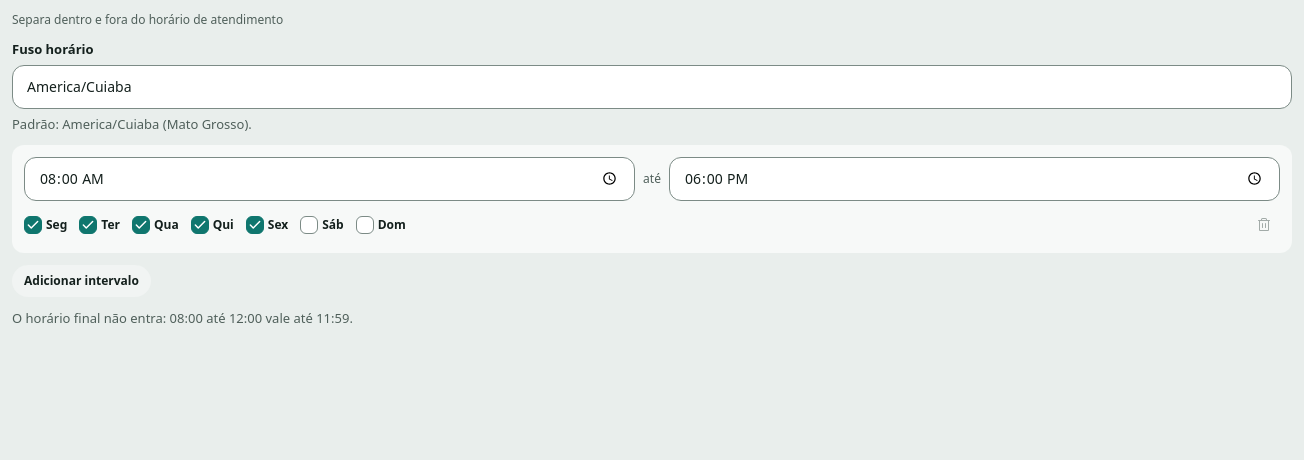
Test: BlockConfigCard › hours: edits times, toggles days and adds or removes intervals
Replace the text in the time field named "Intervalo 1: fim" with "12:00": (974, 179) left=669, top=157, right=1280, bottom=201
Click the button "Adicionar intervalo": click(82, 281) left=12, top=265, right=151, bottom=297
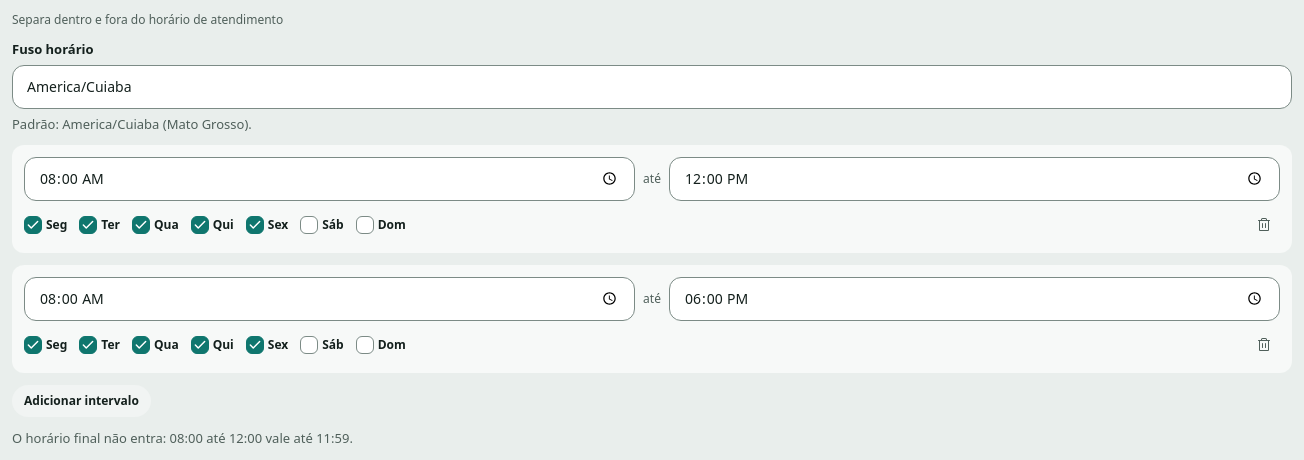
Replace the text in the time field named "Intervalo 2: início" with "14:00": (330, 299) left=24, top=277, right=635, bottom=321
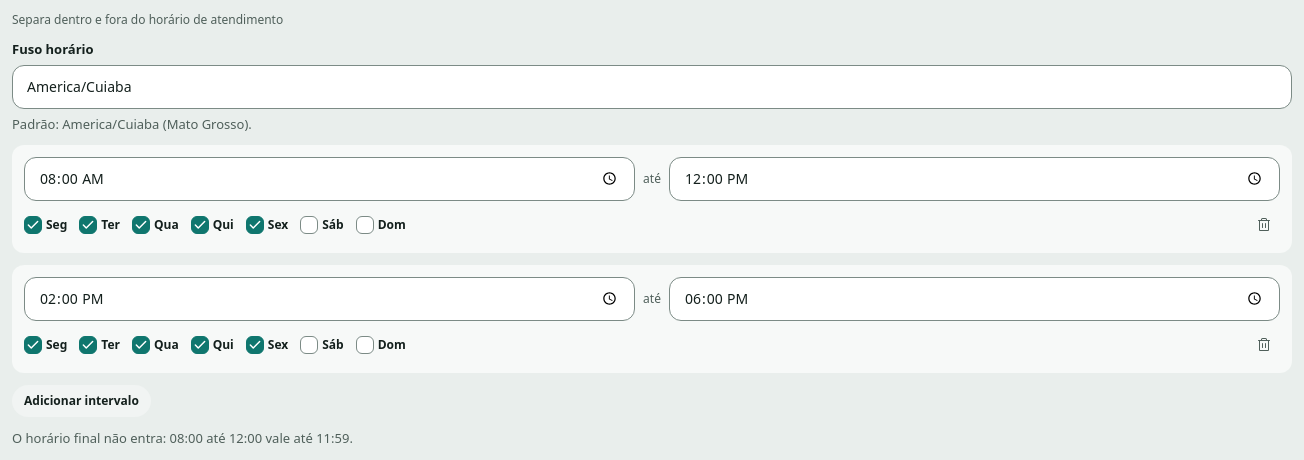
Click the checkbox named "Intervalo 2: Sexta": click(255, 345) left=246, top=336, right=264, bottom=354
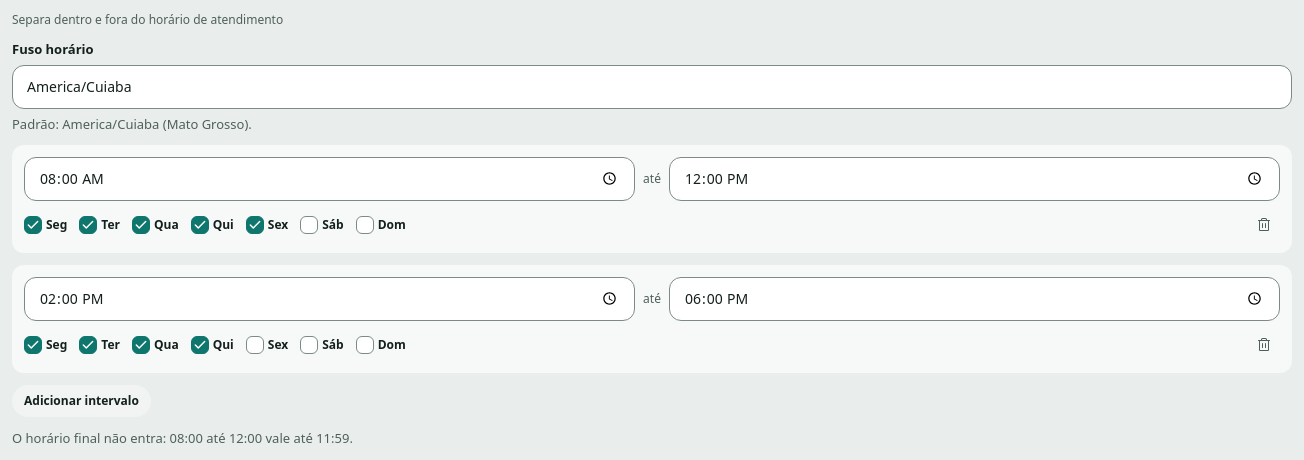
// checking the weekend too means every day, so `days` is dropped
Click the checkbox named "Intervalo 1: Sábado": click(309, 225) left=300, top=216, right=318, bottom=234
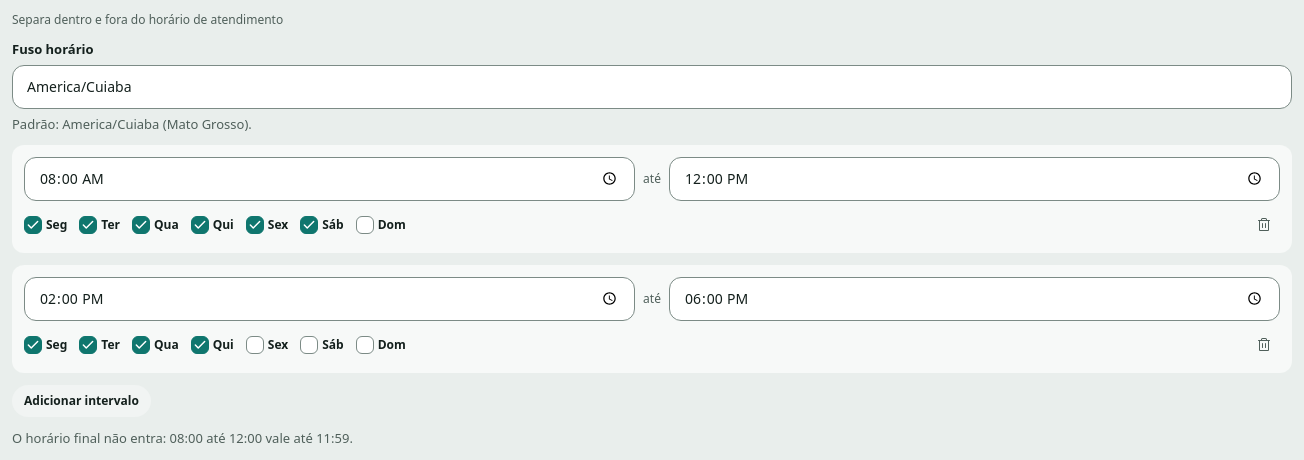
Click the checkbox named "Intervalo 1: Domingo": click(365, 225) left=356, top=216, right=374, bottom=234
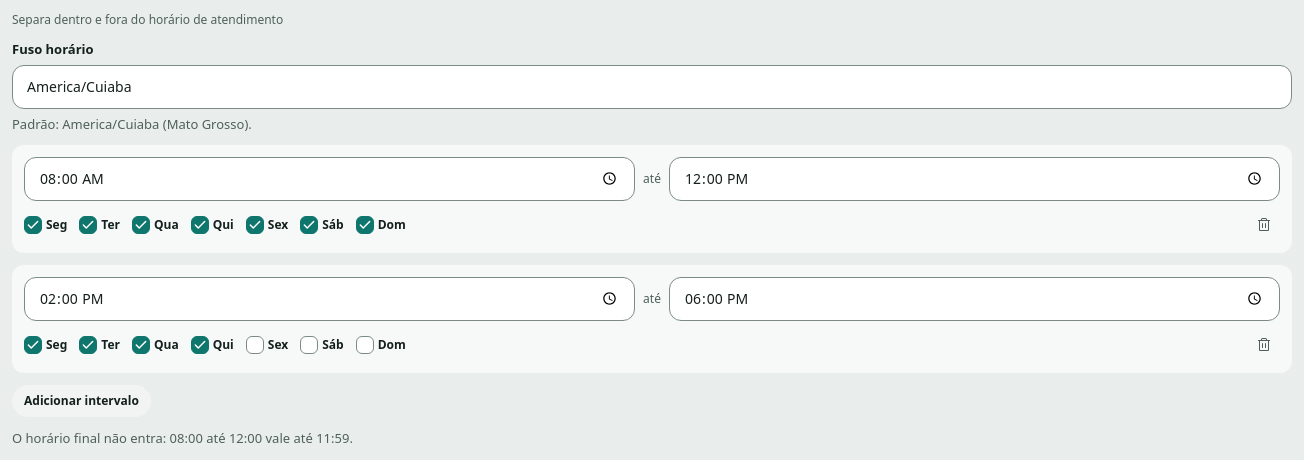
Click the button named "Remover intervalo 2": click(1264, 345) left=1248, top=329, right=1280, bottom=361
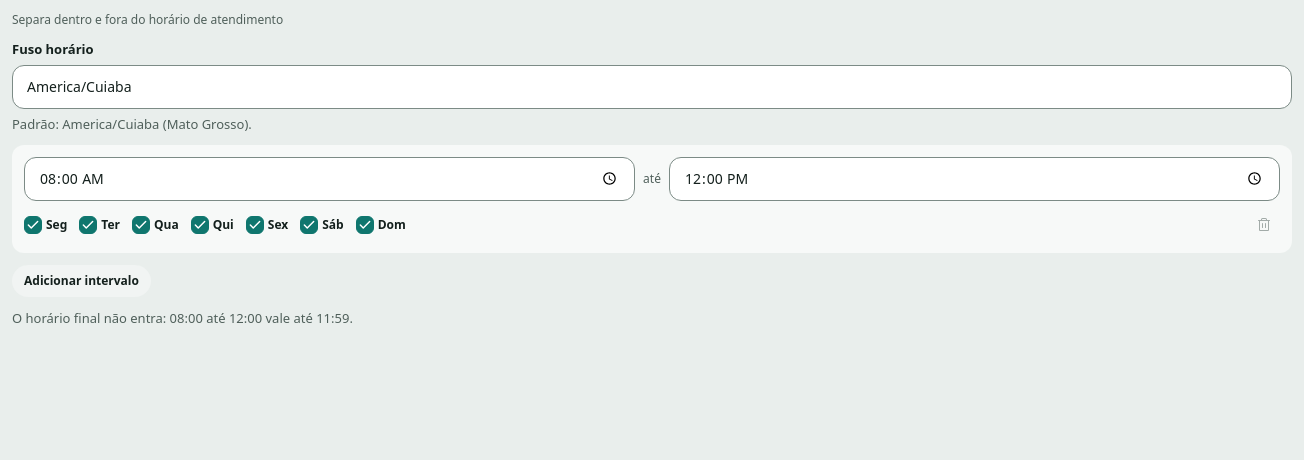
Result: the button named "Remover intervalo 1" is disabled at left=1248, top=209, right=1280, bottom=241
